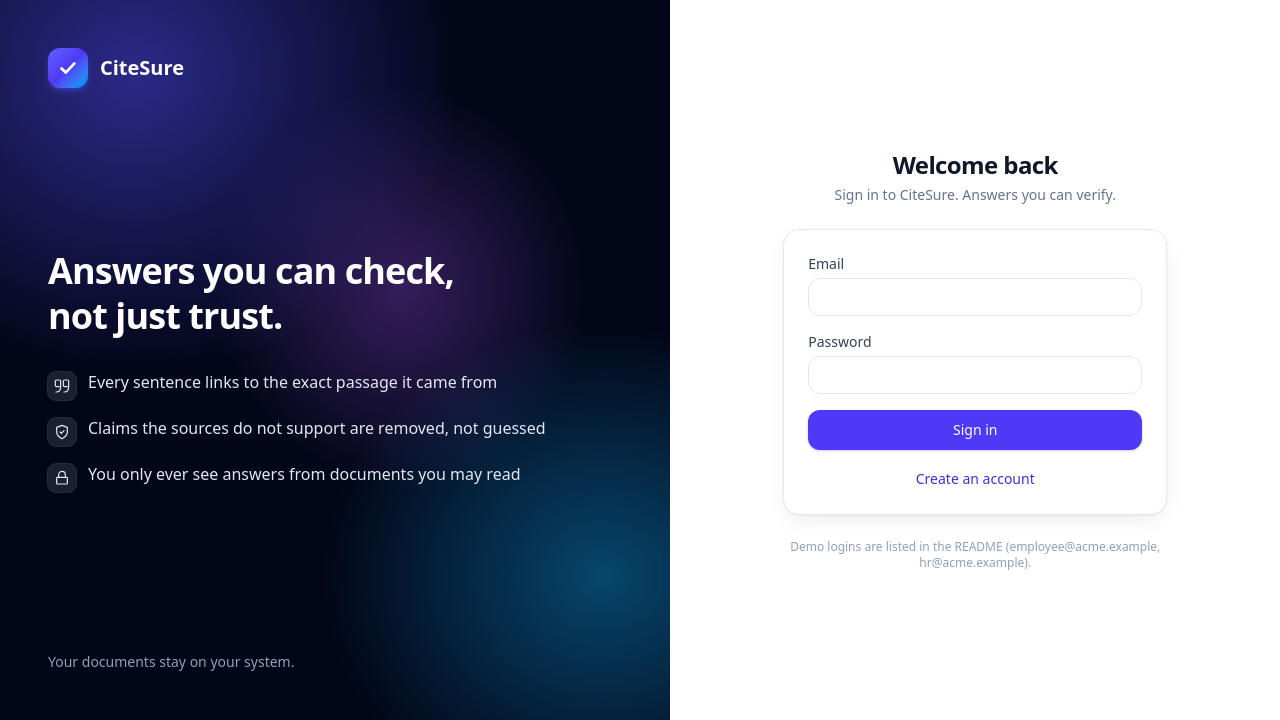
it: LoginPage › shows the server's error message and stays on the page
Type "a@b.co" into the field labelled "Email".
click(975, 297); type("a@b.co")  # box [808,278,1142,316]
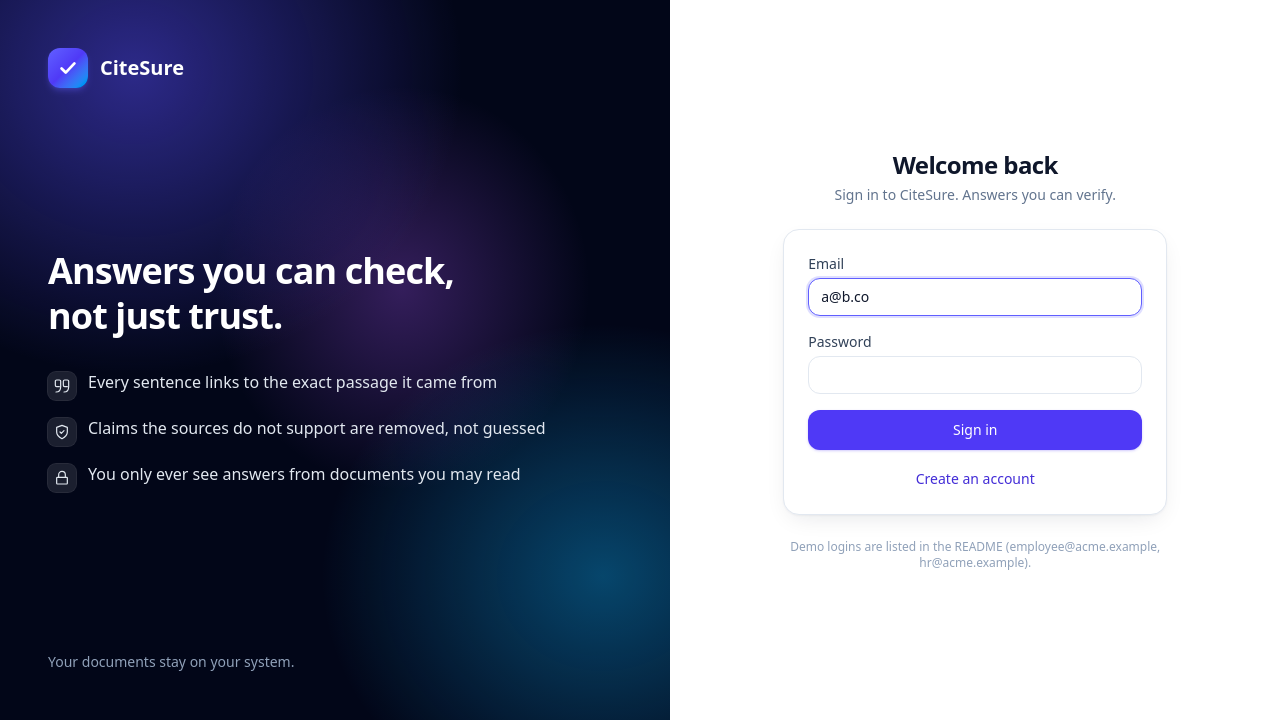
Type "wrong-password" into the password field labelled "Password".
click(975, 375); type("wrong-password")  # box [808,356,1142,394]
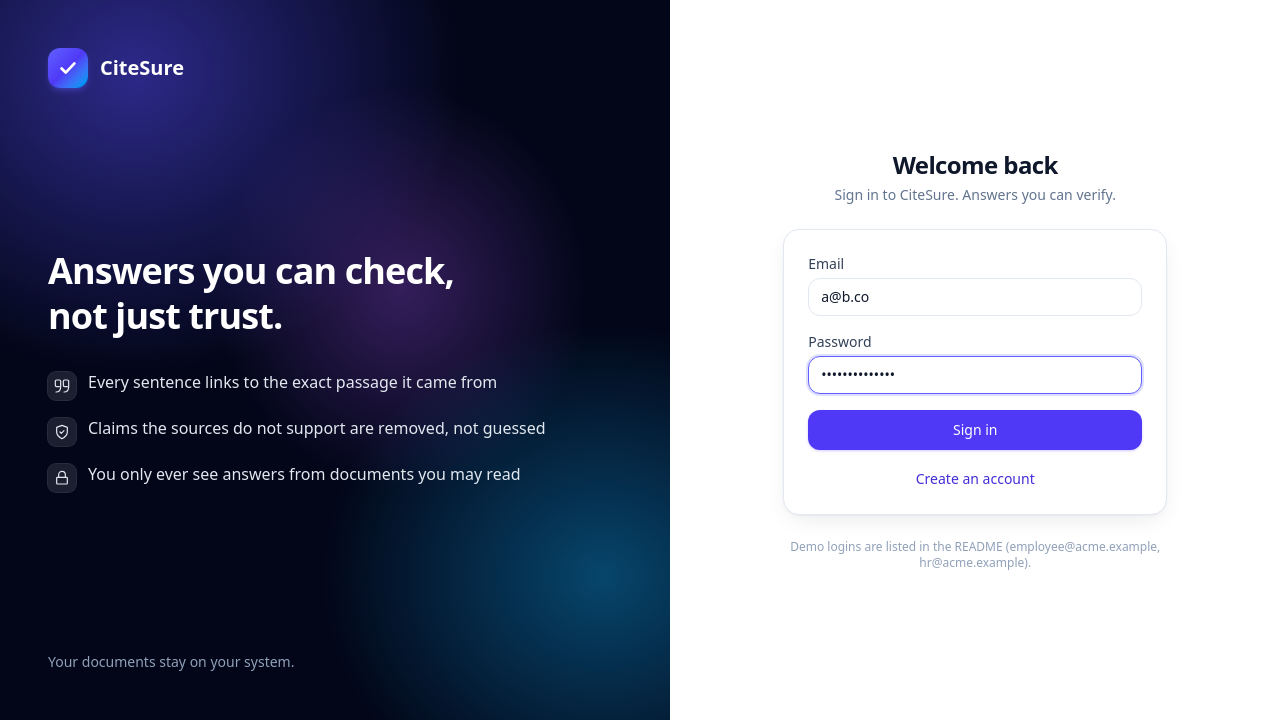
Click the button "Sign in".
click(975, 430)  # box [808,410,1142,450]
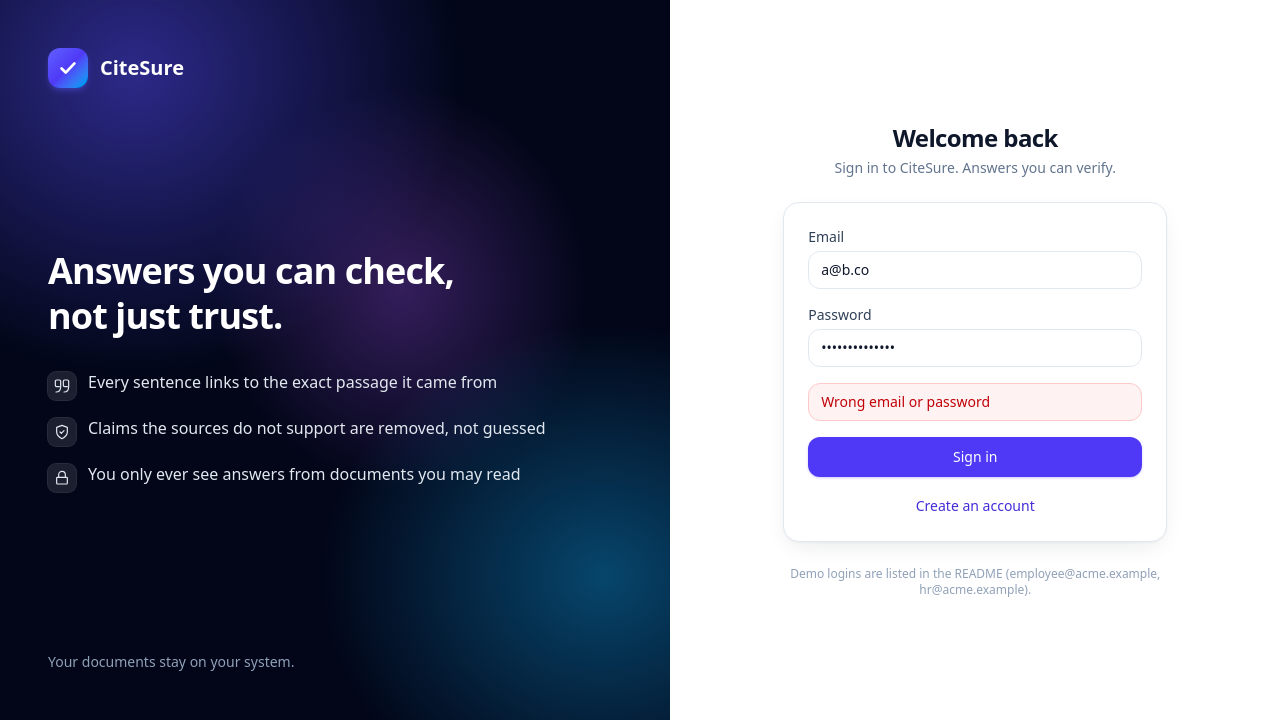
Result: the message reads "Wrong email or password" at [821,392,990,411]
